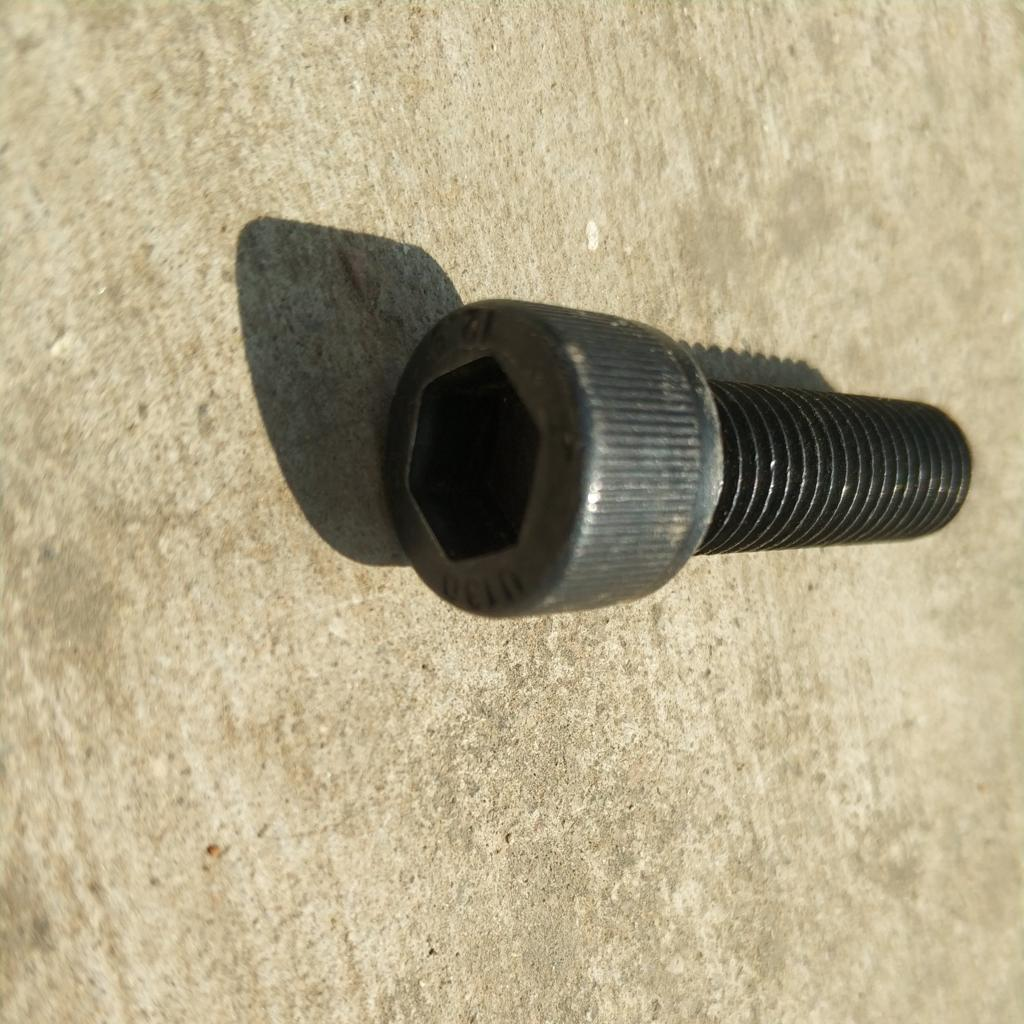screwtype1black: (375, 284, 974, 628)
